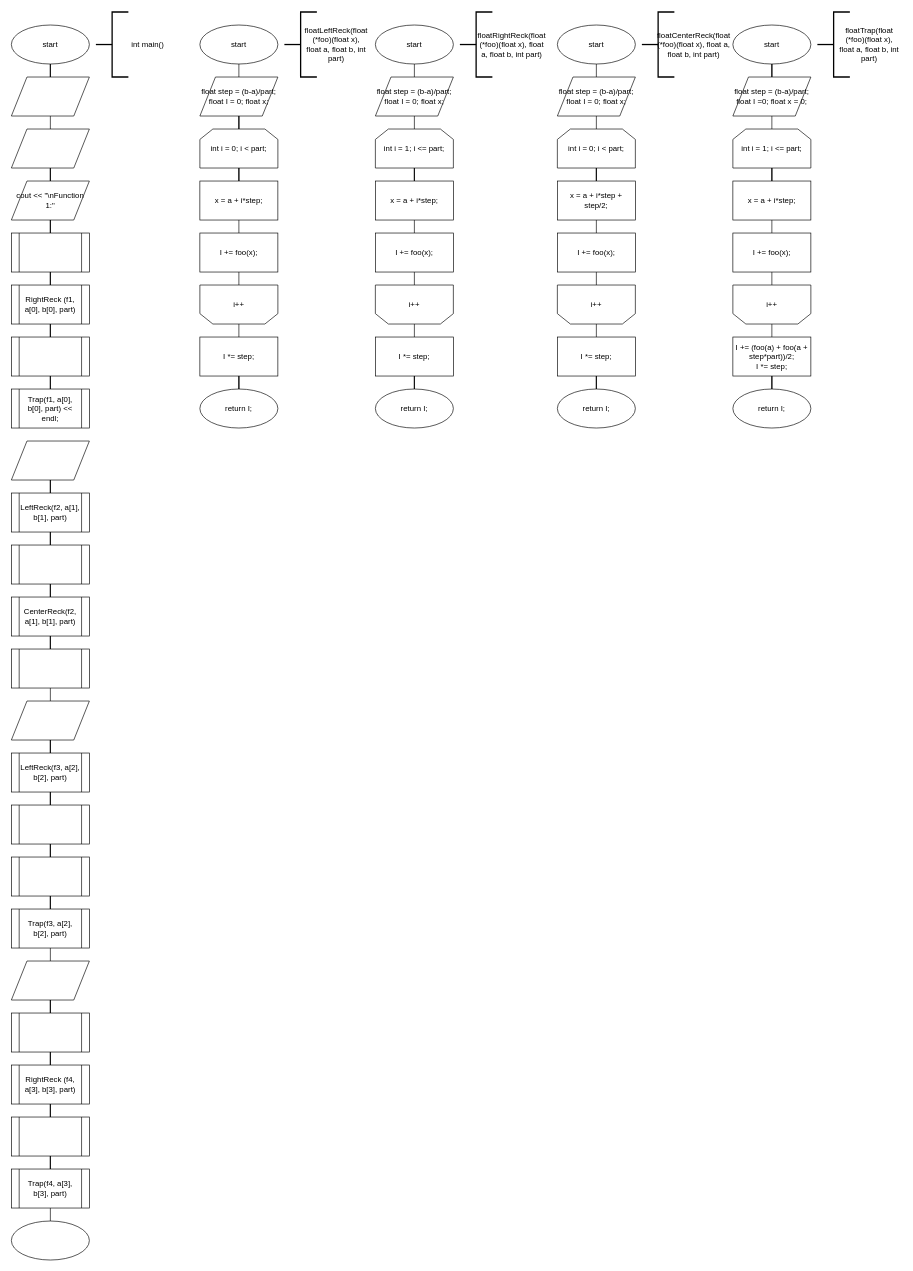
Image size: 913x1271. Some labels were removed from this diagram. Here are the shapes that lost their labels. From the top down, the box of each, then its label:
(11, 76, 89, 116): float a[] = {0.7, 0.2, 1.2, 1.4}; float b[] = {2.1, 1.0, 2.6, 3.0};
(11, 128, 89, 168): int part; cout << "The number of parts is "; cin >> part;
(11, 232, 89, 272): LeftReck(f1, a[0], b[0], part)
(11, 336, 89, 376): CenterReck(f1, a[0], b[0], part)
(11, 440, 89, 480): cout << "\nFunction 2:"
(11, 544, 89, 584): RightReck (f2, a[1], b[1], part)
(11, 648, 89, 688): Trap(f2, a[1], b[1], part)
(11, 700, 89, 740): cout << "\nFunction 3:"
(11, 804, 89, 844): RightReck (f3, a[2], b[2], part)
(11, 856, 89, 896): CenterReck(f3, a[2], b[2], part)
(11, 960, 89, 1000): cout << "\nFunction 4:"
(11, 1012, 89, 1052): LeftReck(f4, a[3], b[3], part)
(11, 1116, 89, 1156): CenterReck(f4, a[3], b[3], part)
(11, 1220, 89, 1260): end
